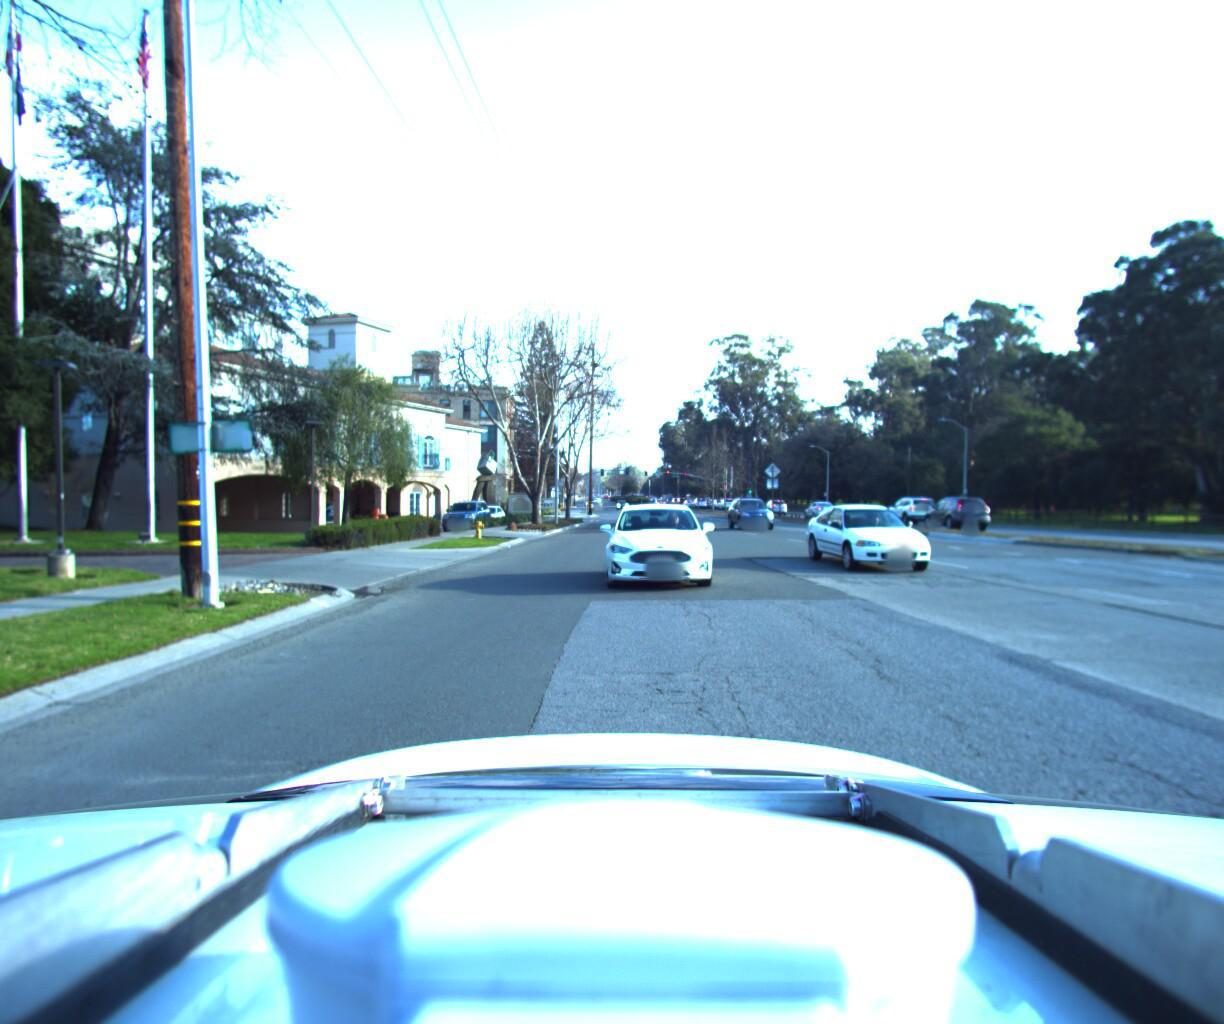car: (820, 498, 971, 576), (600, 492, 708, 590), (913, 488, 985, 524), (729, 491, 785, 528), (439, 489, 492, 526), (877, 488, 931, 518), (798, 492, 834, 511)
